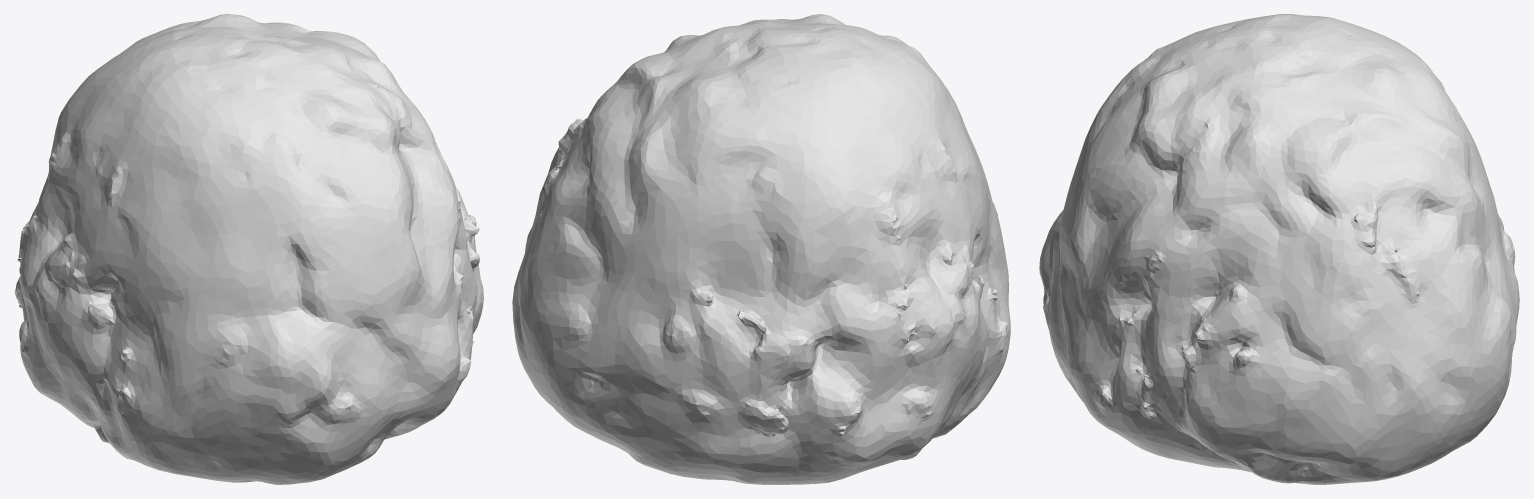
The model's file is boulder03.glb.
The picture shows the model from 3 angles, left to right: view 1: azimuth 30°, elevation 25°; view 2: azimuth 150°, elevation 25°; view 3: azimuth 270°, elevation 25°; orthographic projection.
Parts seen in each view (by area): view 1: Low; view 2: Low; view 3: Low.
Part boxes in pixels (box(x1,y1,x2,y2)): Low: box(14, 14, 483, 484); Low: box(512, 14, 1010, 484); Low: box(1039, 14, 1519, 484).
Bounding box in the file's own units: 1.98 × 1.76 × 1.96.
1 material, 1 textured.
